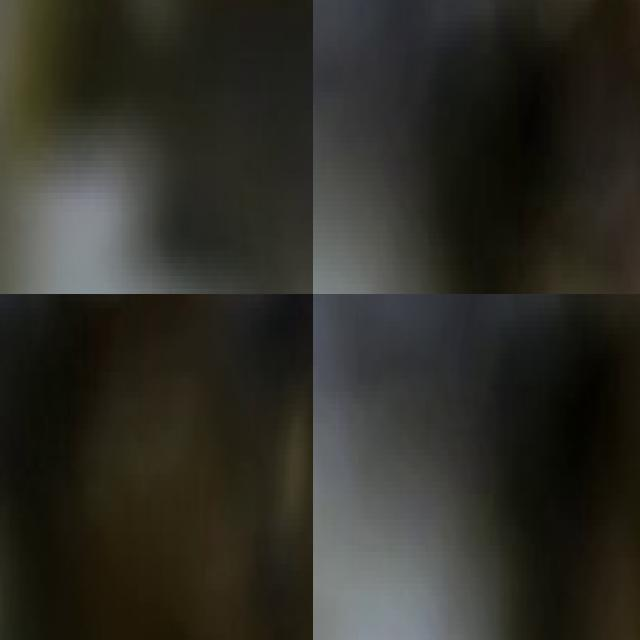fish: (0, 294, 313, 640), (0, 0, 313, 294)
